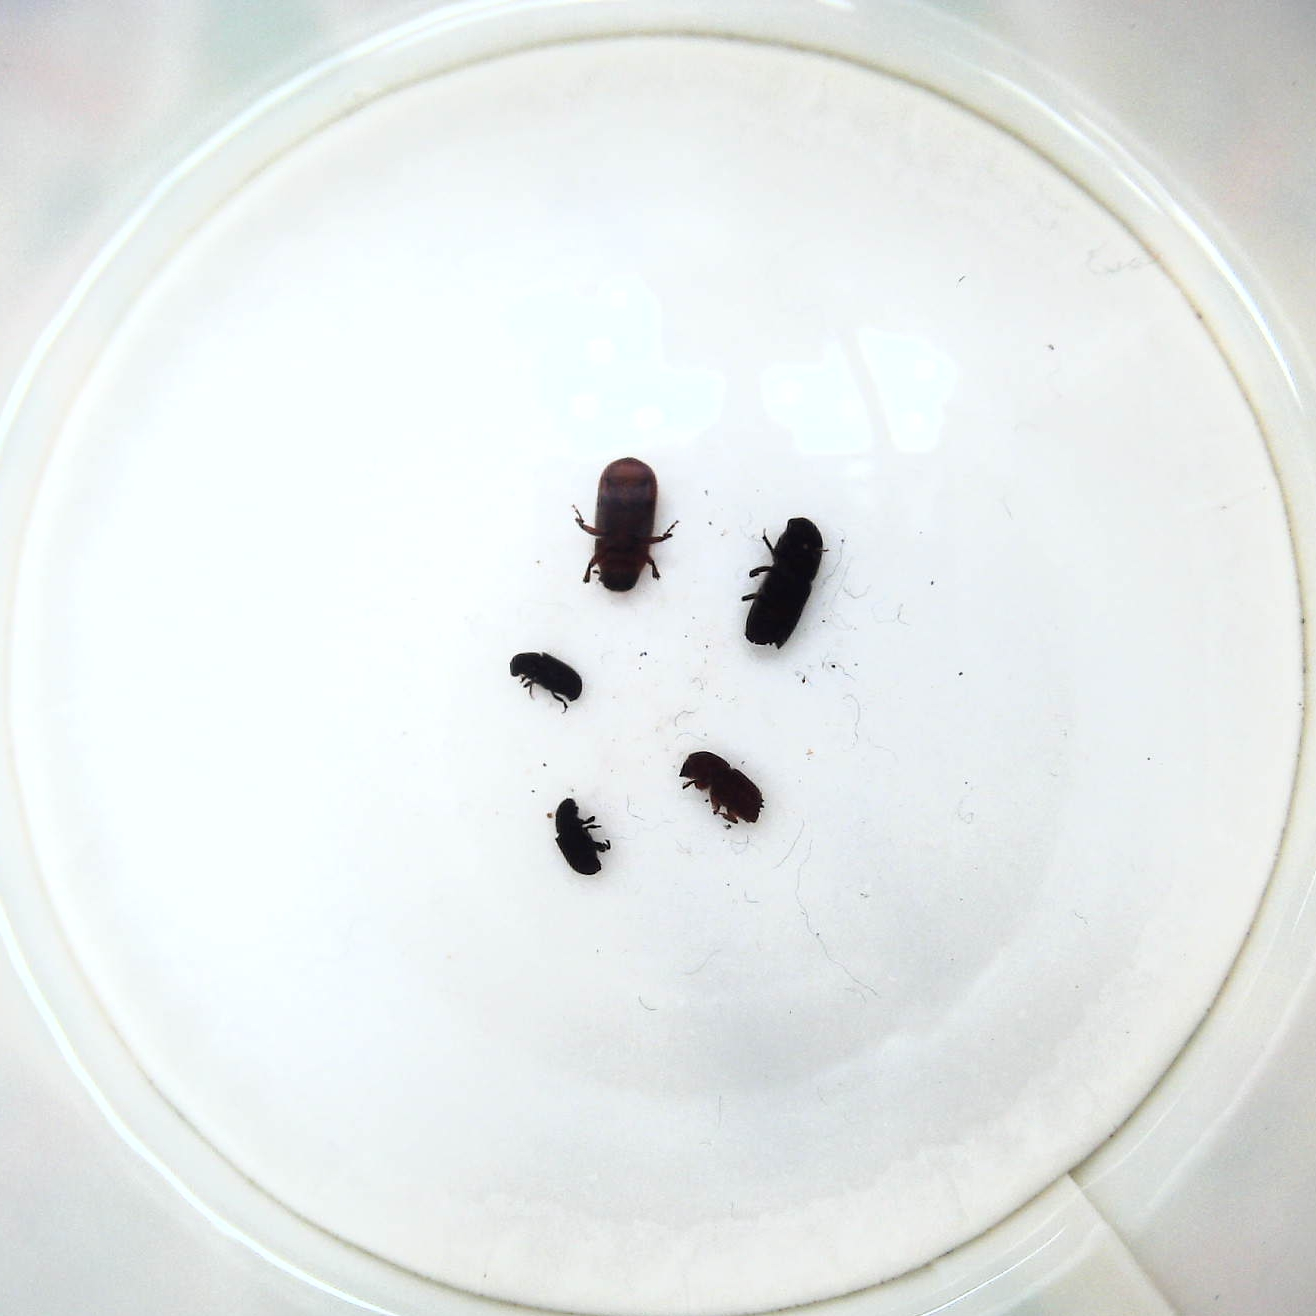Boerner: (734, 509, 828, 658)
Leconte: (570, 450, 677, 599)
armandi: (553, 792, 616, 885)
coleoptera: (504, 645, 584, 711)
linnaeus: (675, 745, 766, 832)
